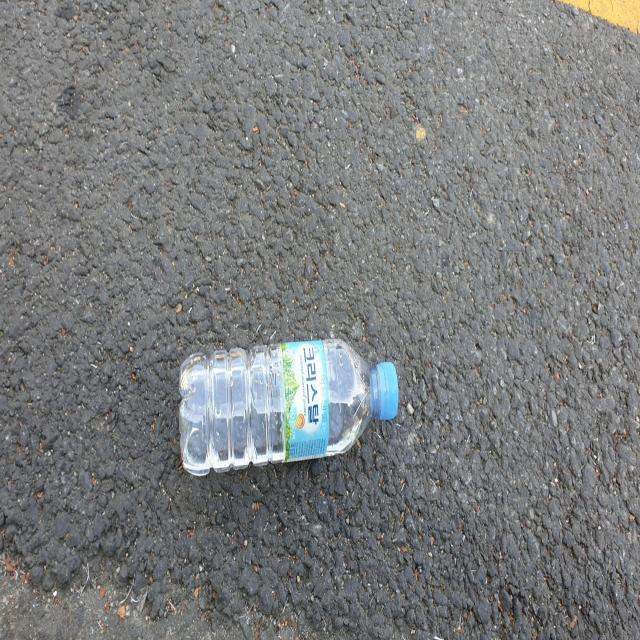plastic: (179, 338, 399, 476)
